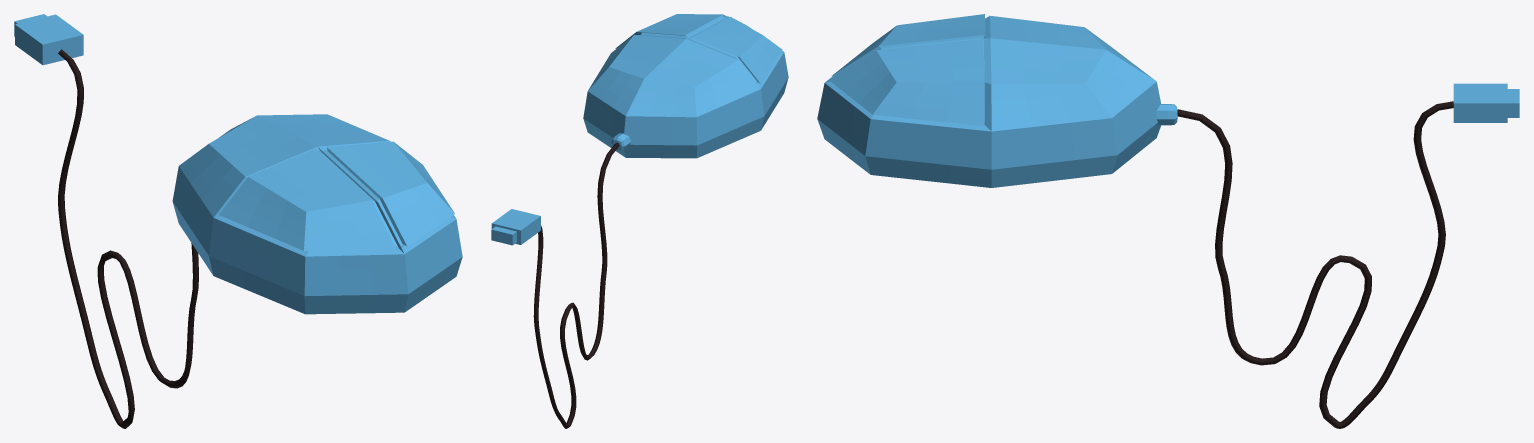
File: mouse.gltf
3 renders of one model, left to right at view 1: azimuth 30°, elevation 25°; view 2: azimuth 150°, elevation 25°; view 3: azimuth 270°, elevation 25°, orthographic. The views are drawn at different scales.
Visible parts, largest first — view 1: Cube.004, Catenary, Cube.007; view 2: Cube.004, Catenary, Cube.007; view 3: Cube.004, Catenary, Cube.007.
Part boxes in pixels (left/top/right/bottom): Cube.004: left=172, top=114, right=462, bottom=314; Catenary: left=58, top=49, right=198, bottom=428; Cube.007: left=14, top=14, right=83, bottom=65; Cube.004: left=583, top=14, right=788, bottom=158; Catenary: left=533, top=142, right=619, bottom=428; Cube.007: left=491, top=209, right=540, bottom=245; Cube.004: left=817, top=14, right=1161, bottom=187; Catenary: left=1177, top=101, right=1453, bottom=428; Cube.007: left=1453, top=83, right=1519, bottom=122.
Size of the model in its own units: 1.29 by 2.32 by 3.71.
